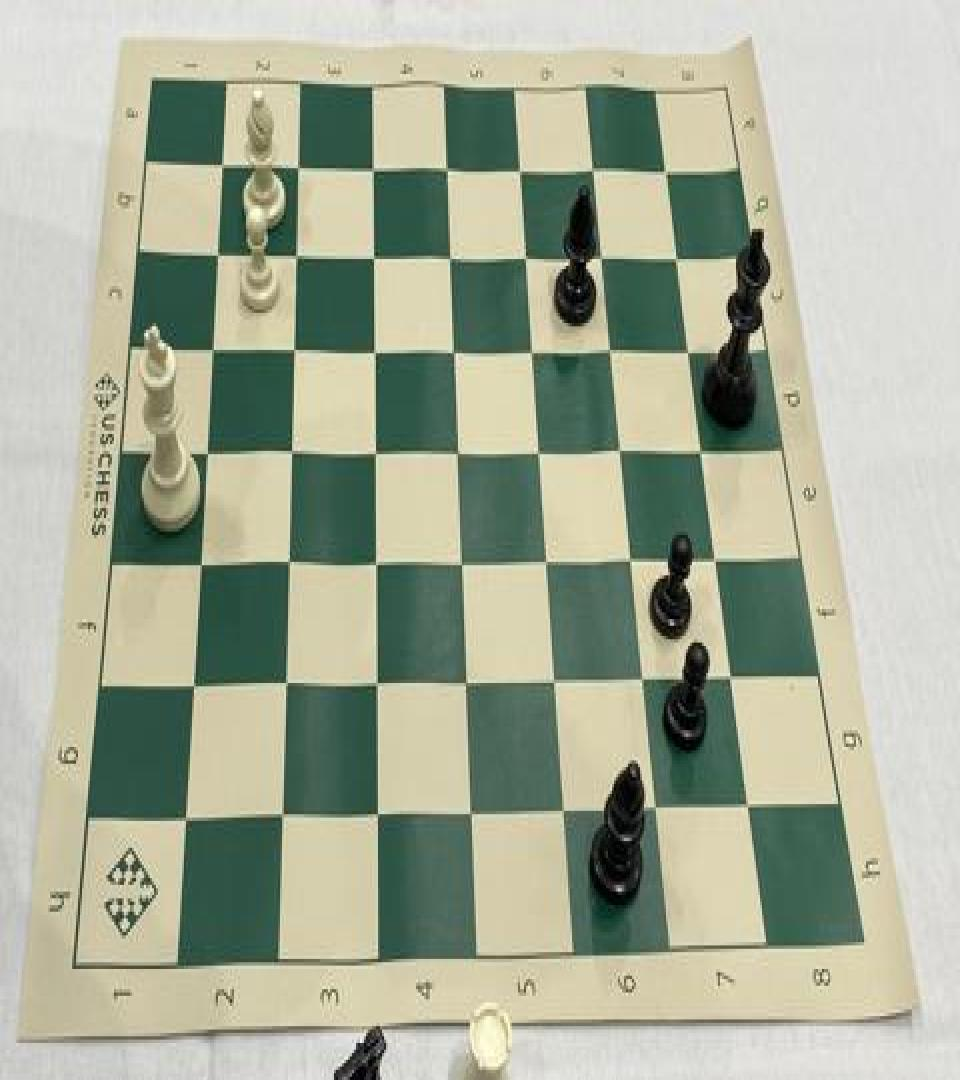xcorner: (363, 146, 385, 184), (287, 146, 309, 184), (212, 144, 234, 182), (706, 538, 728, 576), (621, 538, 643, 576), (181, 664, 203, 702), (584, 148, 606, 185), (511, 148, 533, 185), (437, 148, 459, 185), (363, 234, 385, 271), (285, 234, 307, 271), (207, 234, 229, 271), (692, 429, 714, 466), (611, 429, 633, 466), (529, 431, 551, 468), (447, 431, 469, 468), (364, 431, 386, 468), (280, 432, 302, 469), (195, 432, 217, 469), (536, 540, 558, 577), (451, 540, 473, 577), (720, 654, 742, 691), (633, 656, 655, 693), (544, 658, 566, 695), (364, 661, 386, 698), (273, 663, 295, 700), (737, 782, 759, 819), (459, 789, 481, 826), (365, 792, 387, 829), (270, 794, 292, 831), (657, 150, 679, 186), (668, 236, 690, 272), (592, 236, 614, 272), (517, 236, 539, 272), (440, 236, 462, 272), (679, 330, 701, 366), (601, 330, 623, 366), (523, 330, 545, 366), (443, 330, 465, 366), (363, 330, 385, 366), (282, 330, 304, 366), (201, 330, 223, 366), (364, 542, 386, 578), (277, 544, 299, 580), (188, 544, 210, 580), (455, 660, 477, 696), (645, 786, 667, 822), (553, 788, 575, 824), (173, 798, 195, 834)
